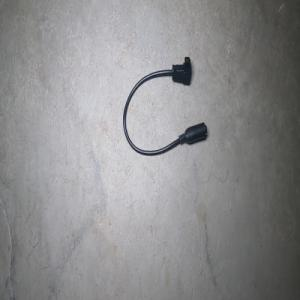Wire: (122, 56, 207, 155)
